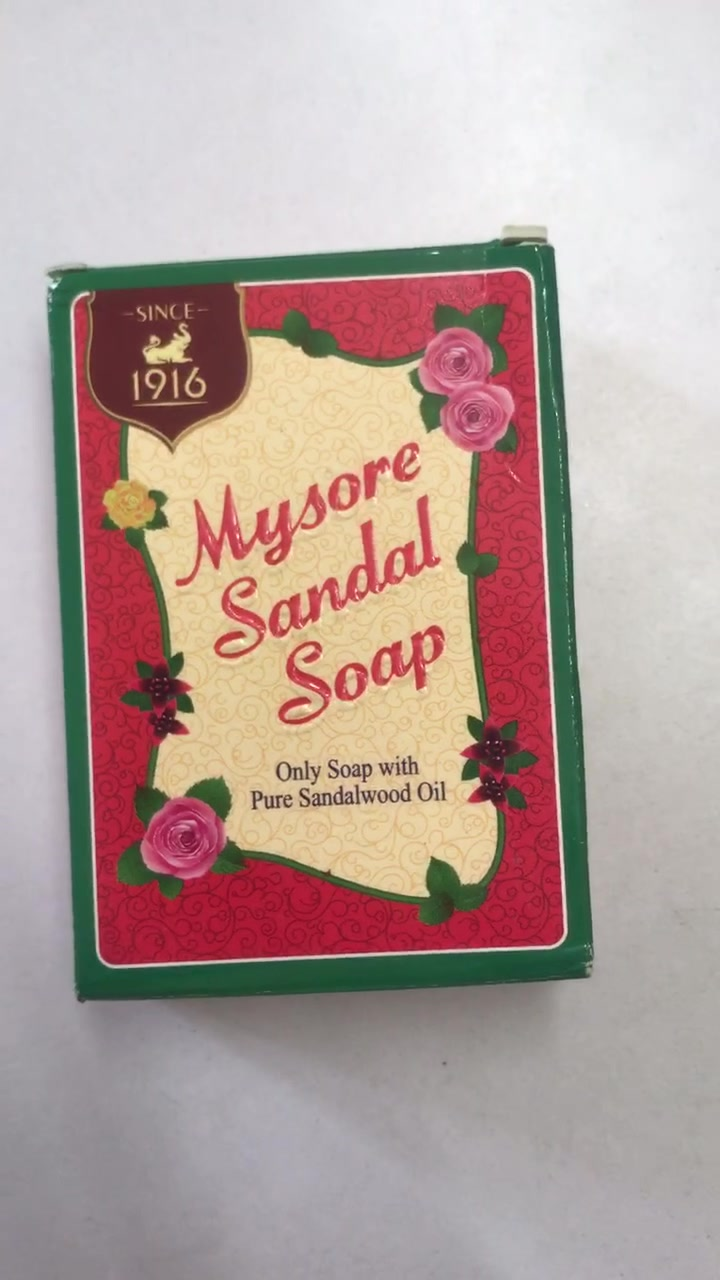mysore sandal soap: (53, 235, 595, 1003)
